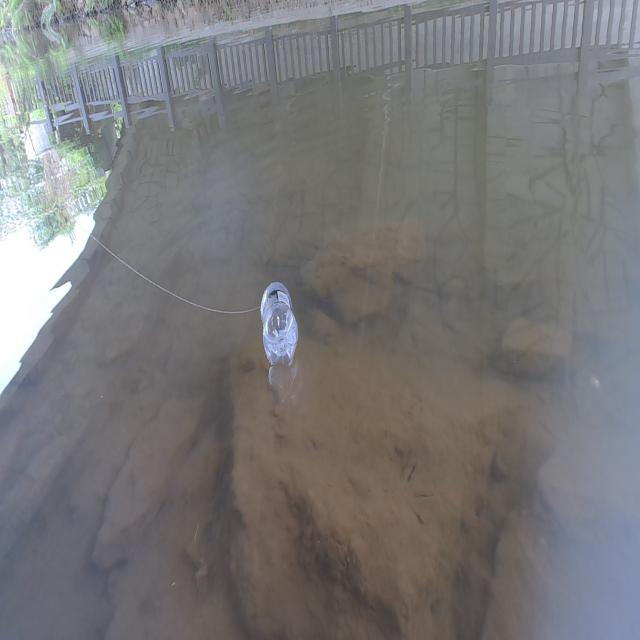bottle: (244, 250, 309, 389)
